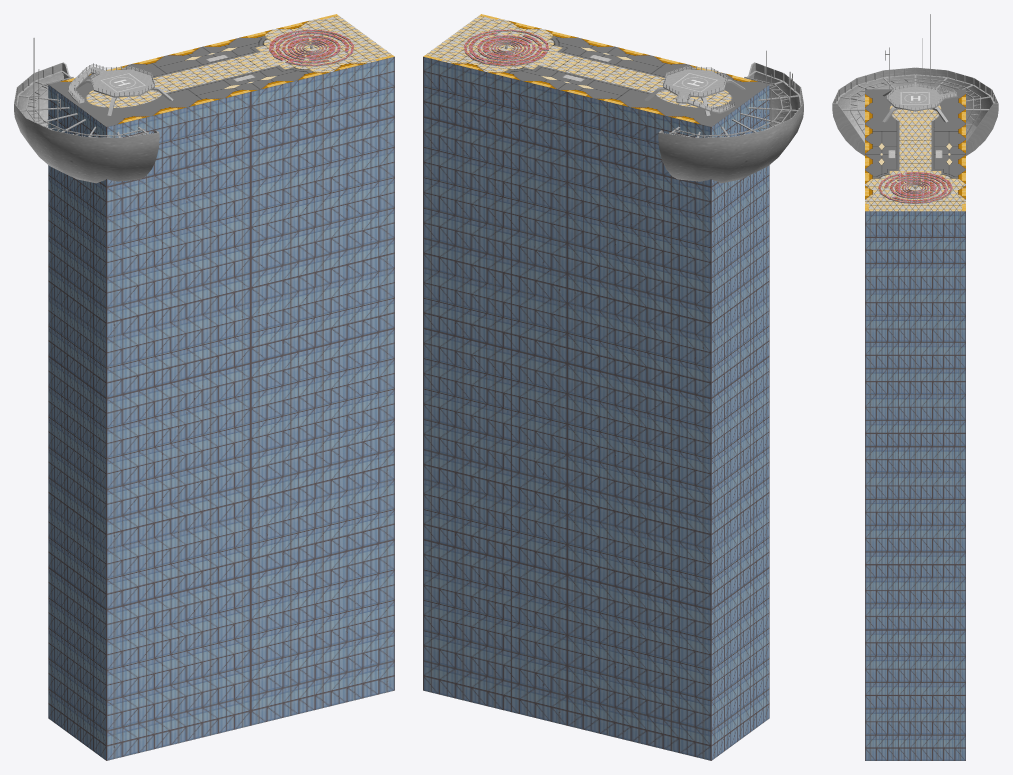
Rendered from MitakiharaHospital.fbx.
The picture shows the model from 3 angles, left to right: view 1: azimuth 30°, elevation 25°; view 2: azimuth 150°, elevation 25°; view 3: azimuth 270°, elevation 25°; orthographic projection. The views are drawn at different scales.
Visible parts, largest first — view 1: MitakiharaHospital; view 2: MitakiharaHospital; view 3: MitakiharaHospital.
Part boxes in pixels (x1=…): MitakiharaHospital: x1=14, y1=14, x2=394, y2=760; MitakiharaHospital: x1=423, y1=14, x2=803, y2=760; MitakiharaHospital: x1=832, y1=14, x2=998, y2=760.
Size of the model in its own units: 1178 by 2331 by 575.
